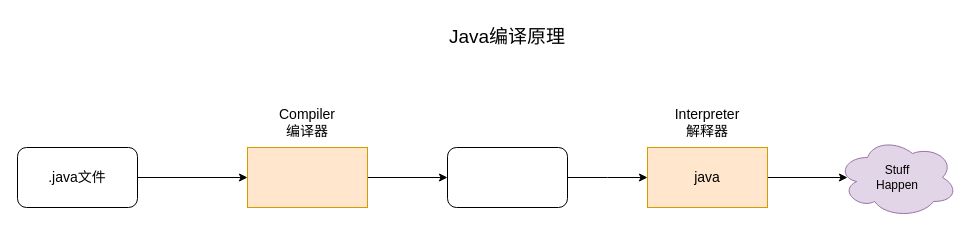
Some shapes in this 975 by 235 pixel diagram are drawn without their labels. The centre of each missing label's shape, as x and y in pixels:
".class文件" belongs at point (507, 177).
"javac" belongs at point (307, 177).
